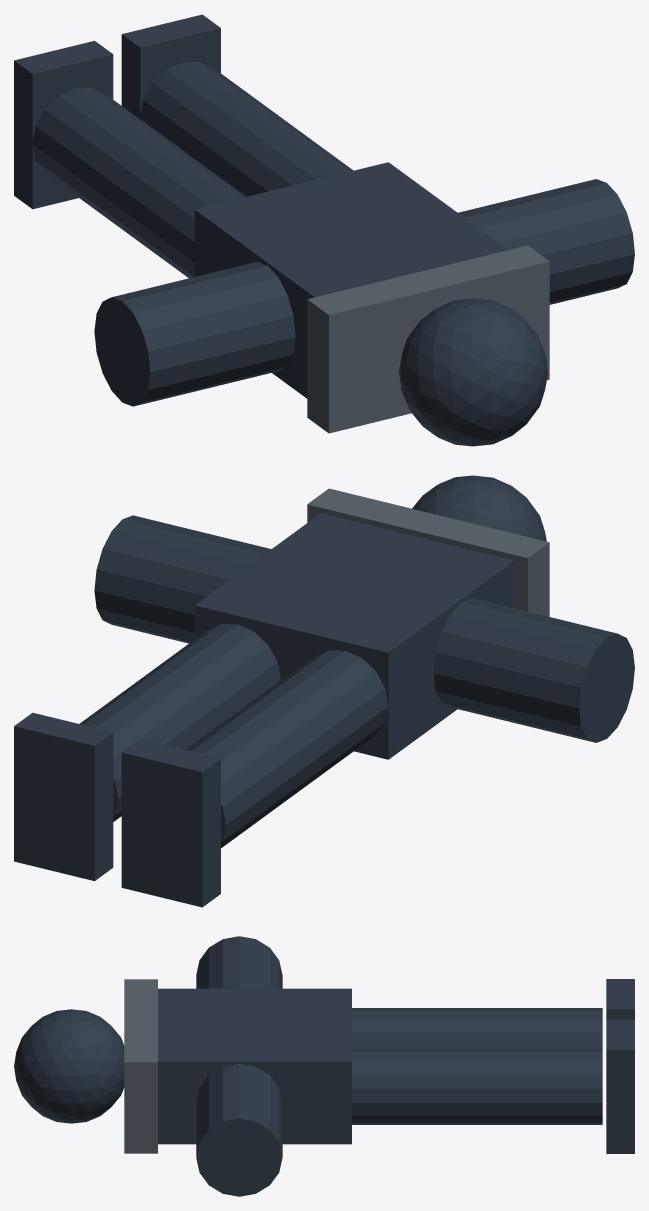
The model's file is 04-ameaca-hacker.glb.
3 renders of one model, top to bottom at view 1: azimuth 30°, elevation 25°; view 2: azimuth 150°, elevation 25°; view 3: azimuth 270°, elevation 25°, orthographic. The views are drawn at different scales.
Parts seen in each view (by area): view 1: part_004, part_005, part_006, part_002, part_008, part_003, part_007, part_000, part_001; view 2: part_004, part_006, part_002, part_001, part_000, part_003, part_007, part_005, part_008; view 3: part_004, part_003, part_002, part_008, part_007, part_005, part_001, part_006, part_000.
Part boxes in pixels (bbox=[...]): part_004: bbox=[194, 162, 507, 398]; part_005: bbox=[307, 245, 549, 433]; part_006: bbox=[94, 262, 295, 406]; part_002: bbox=[32, 88, 245, 278]; part_008: bbox=[399, 298, 547, 446]; part_003: bbox=[140, 61, 353, 196]; part_007: bbox=[458, 179, 634, 304]; part_000: bbox=[14, 40, 113, 209]; part_001: bbox=[121, 14, 220, 118]; part_004: bbox=[194, 513, 514, 759]; part_006: bbox=[433, 598, 634, 742]; part_002: bbox=[187, 650, 388, 847]; part_001: bbox=[14, 712, 113, 881]; part_000: bbox=[121, 739, 220, 907]; part_003: bbox=[79, 624, 280, 821]; part_007: bbox=[94, 515, 271, 643]; part_005: bbox=[307, 488, 549, 616]; part_008: bbox=[412, 475, 546, 541]; part_004: bbox=[158, 988, 351, 1144]; part_003: bbox=[352, 1048, 602, 1124]; part_002: bbox=[352, 1008, 602, 1048]; part_008: bbox=[14, 1009, 124, 1123]; part_007: bbox=[196, 1064, 282, 1196]; part_005: bbox=[124, 979, 157, 1153]; part_001: bbox=[606, 1019, 634, 1153]; part_006: bbox=[196, 936, 282, 988]; part_000: bbox=[606, 979, 634, 1019].
Bounding box in the file's own units: 1.8 × 0.49 × 2.59.
